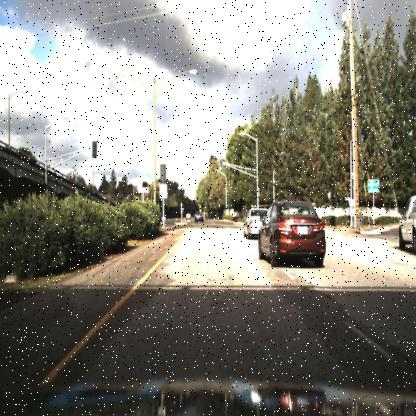car: (258, 199, 323, 263), (397, 193, 415, 256), (242, 205, 266, 241), (192, 208, 206, 224)
trafficLight-Green: (216, 152, 224, 180), (269, 170, 278, 187), (218, 156, 222, 172)
